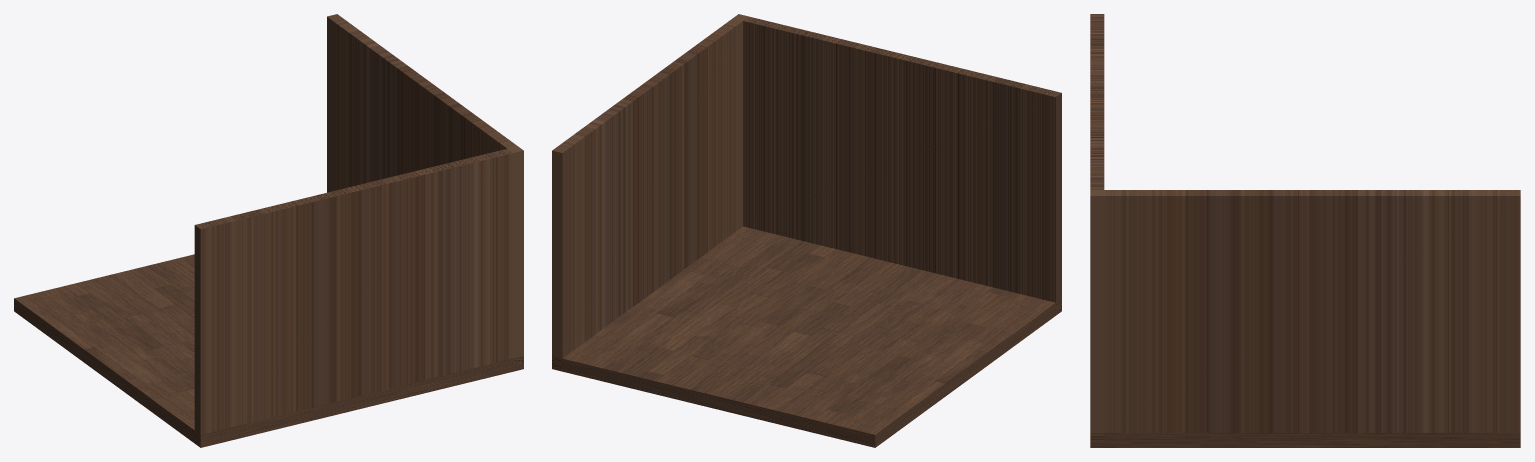
Rendered from livingRoomObject.obj.
The picture shows the model from 3 angles, left to right: view 1: azimuth 30°, elevation 25°; view 2: azimuth 150°, elevation 25°; view 3: azimuth 270°, elevation 25°; orthographic projection. The views are drawn at different scales.
Parts seen in each view (by area): view 1: Cube_Cube.001; view 2: Cube_Cube.001; view 3: Cube_Cube.001.
Part boxes in pixels (x1,y1,x2,y2): Cube_Cube.001: (14, 14, 523, 447); Cube_Cube.001: (552, 14, 1061, 447); Cube_Cube.001: (1090, 14, 1520, 447).
Size of the model in its own units: 6.2 by 4.01 by 6.2.
